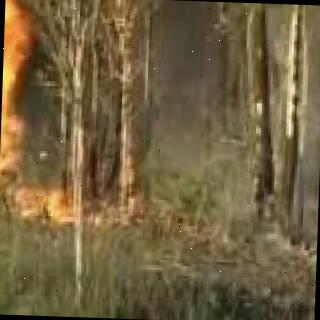fire: (0, 0, 36, 163), (13, 186, 76, 224)
